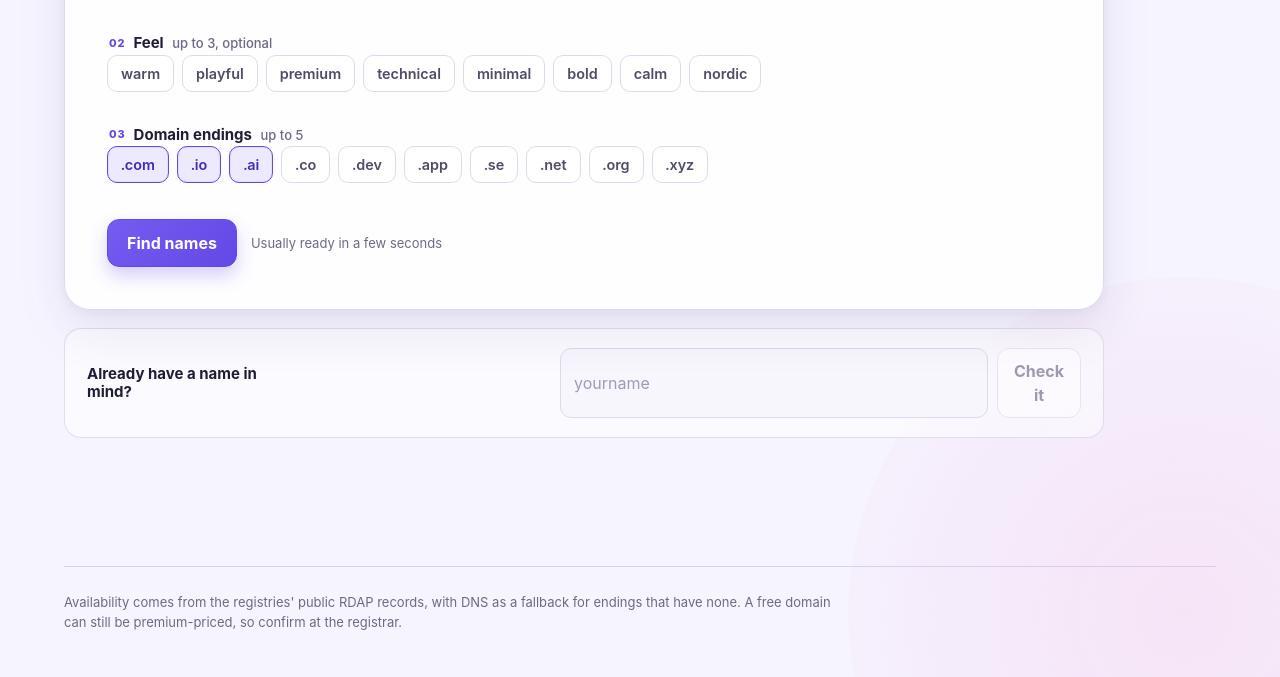
it: App › checks a name you bring yourself
(page scrolled)
Type "Potterly" into the field labelled "Already have a name in mind?". click: (774, 383)
box: [560, 348, 988, 418]
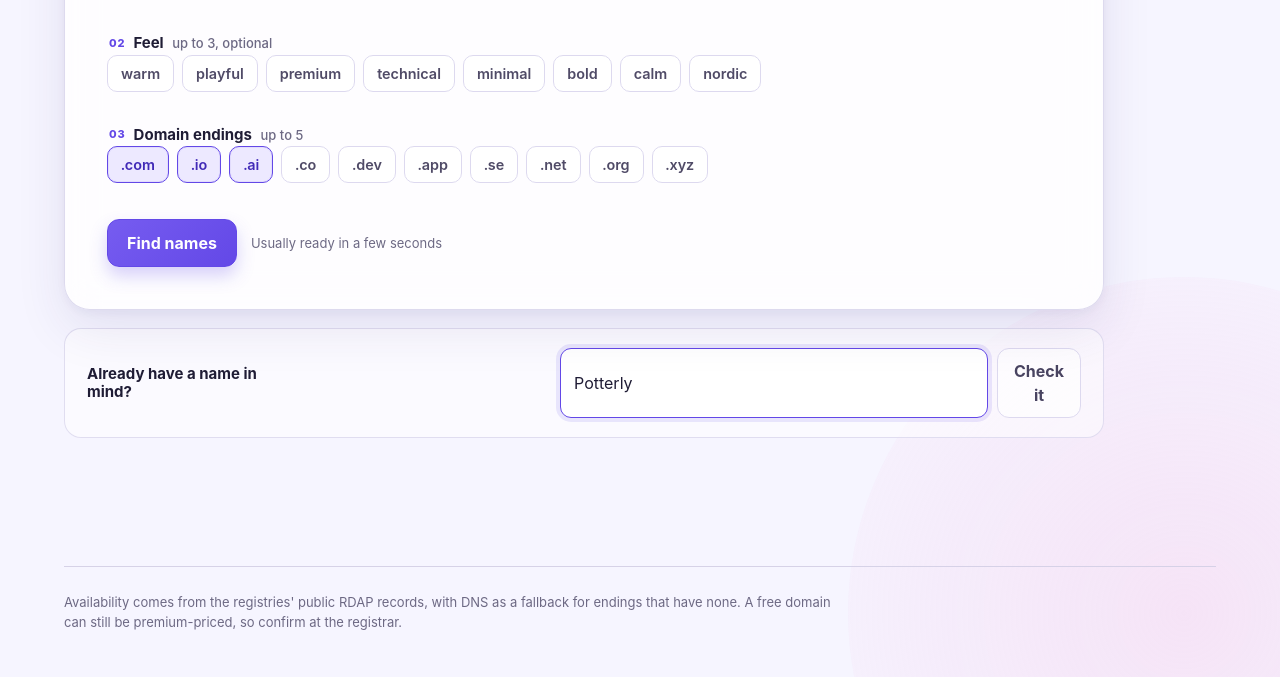
Click the button "Check it". click: (1039, 383)
box: [997, 348, 1081, 418]
(page scrolled)
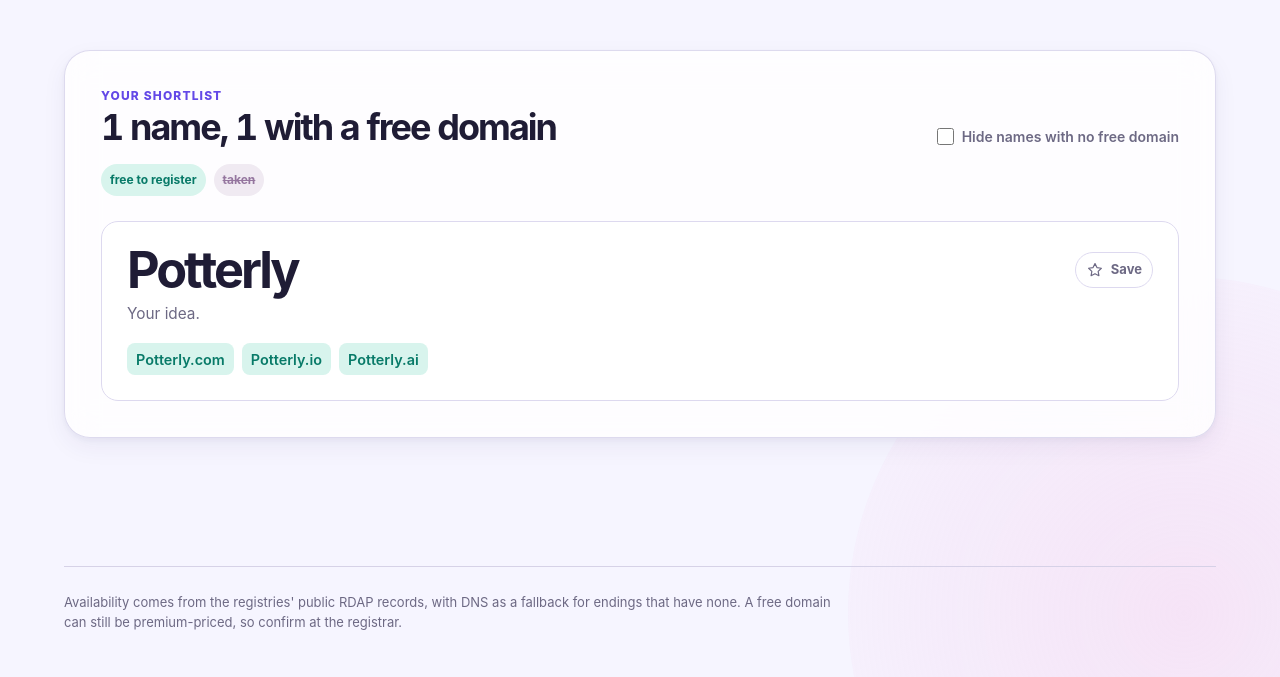
Check: the heading "Potterly" is shown, box [127, 247, 298, 293]
Check: the text "Your idea." is shown, box [127, 304, 200, 323]
